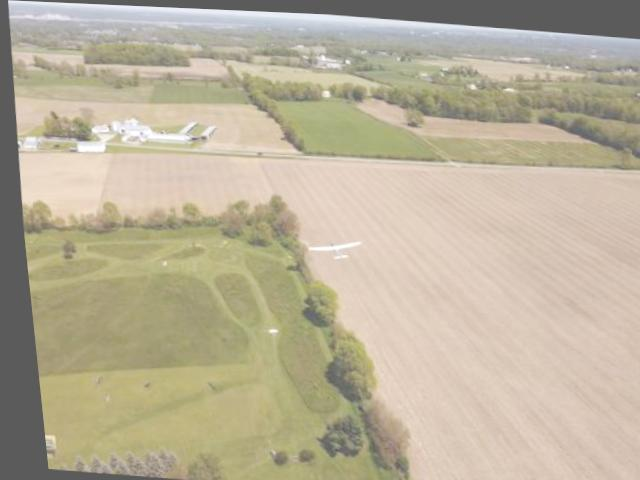uav: (296, 224, 367, 271)
